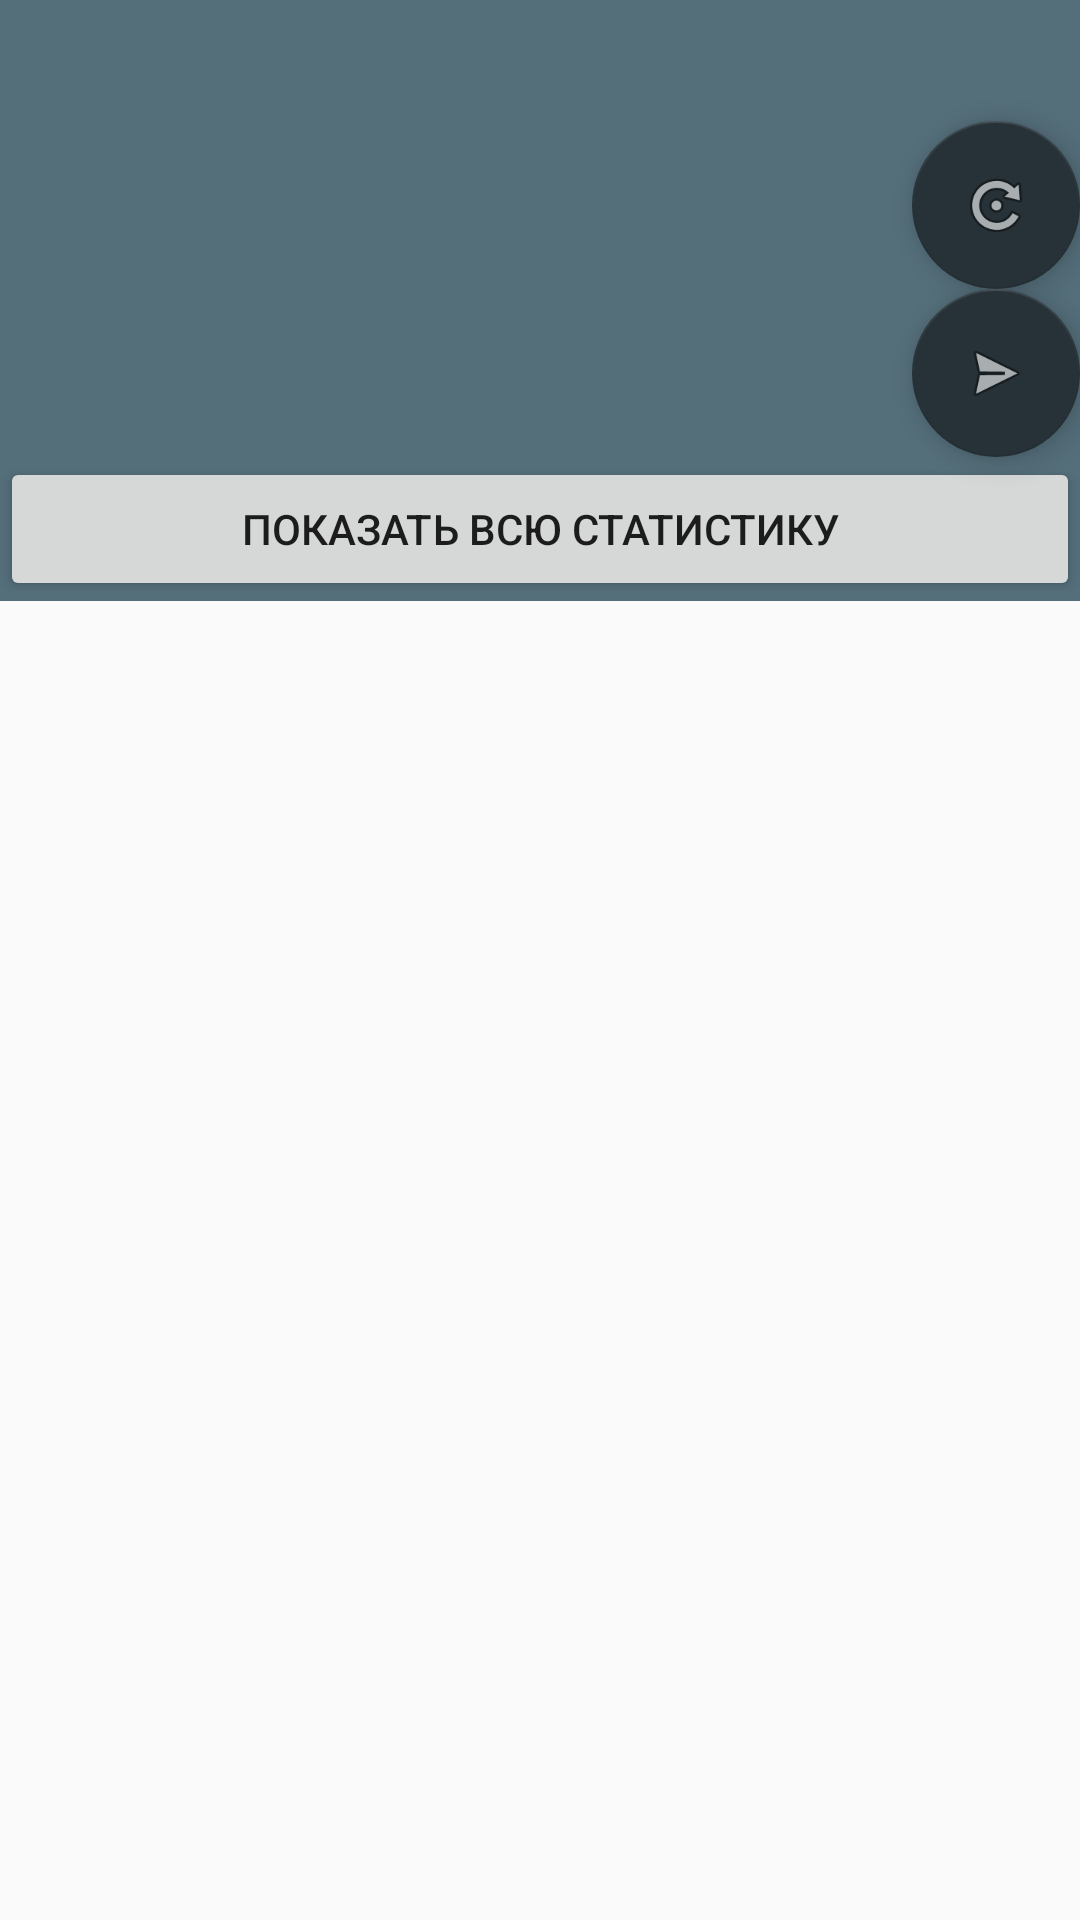

Named icons in this screenshot (1080x1920) and their centers, point (x, y):
rotate: point (996, 205)
send: point (996, 373)
